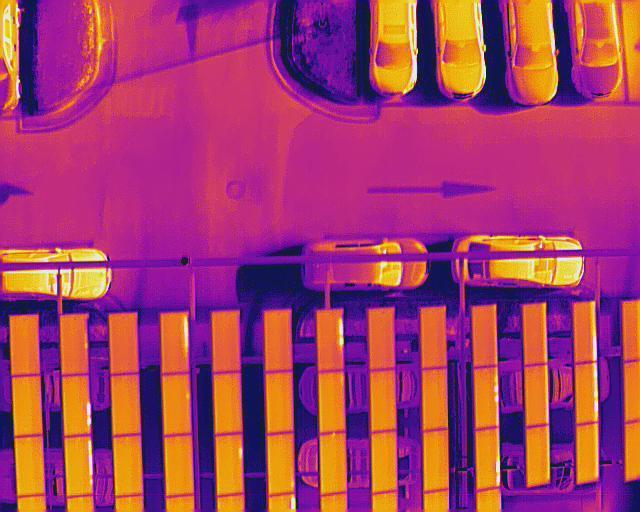Cell: (214, 432, 242, 495)
No-Anomaly: (210, 310, 240, 372), (10, 315, 40, 376), (265, 371, 294, 434), (108, 313, 138, 373), (111, 374, 140, 436), (113, 435, 142, 497), (163, 373, 191, 435), (214, 372, 242, 434), (264, 310, 292, 372), (12, 377, 41, 436), (59, 315, 88, 374), (163, 435, 191, 496), (267, 432, 294, 495), (318, 369, 344, 434), (367, 307, 394, 369), (16, 438, 44, 497), (420, 308, 447, 369), (319, 432, 345, 495), (370, 369, 396, 432), (524, 361, 548, 428), (371, 430, 396, 494), (423, 429, 449, 490), (422, 369, 448, 430), (522, 303, 547, 366), (471, 304, 495, 367), (576, 423, 598, 483), (527, 424, 548, 486)
Unclassified: (61, 375, 91, 435), (65, 437, 93, 497), (316, 310, 343, 372), (160, 314, 188, 373), (473, 368, 498, 428), (475, 427, 499, 488), (575, 363, 598, 426), (574, 303, 597, 362)
